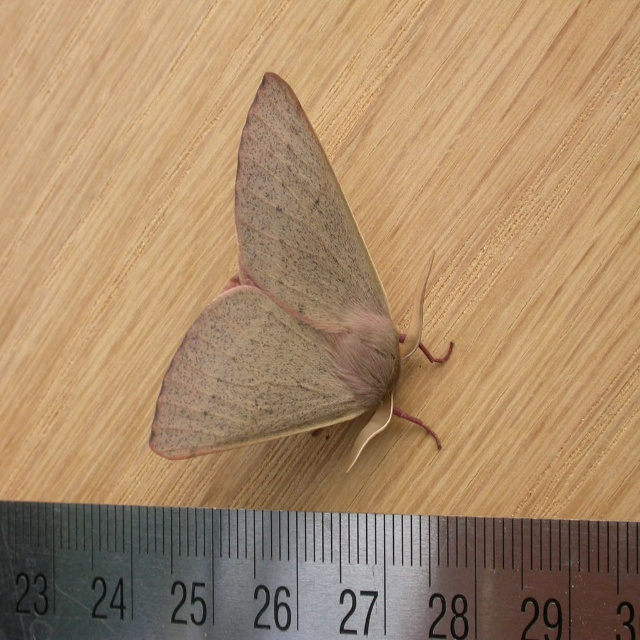Butterfly: (169, 122, 513, 563)
